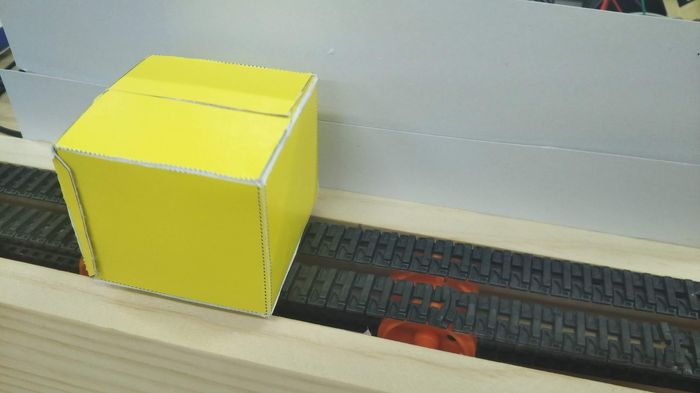box4: (46, 47, 323, 321)
